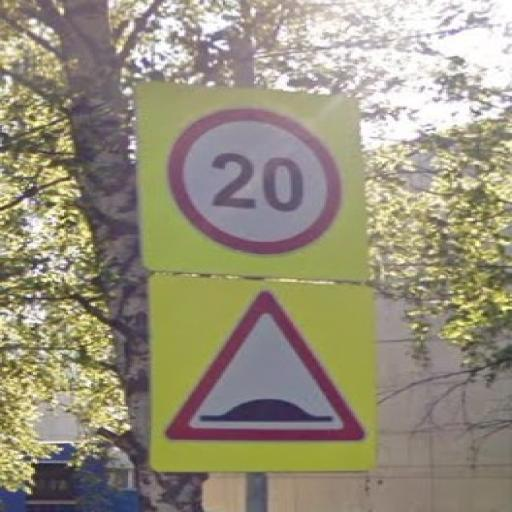traffic_sign: (164, 291, 369, 444), (168, 108, 344, 257)
